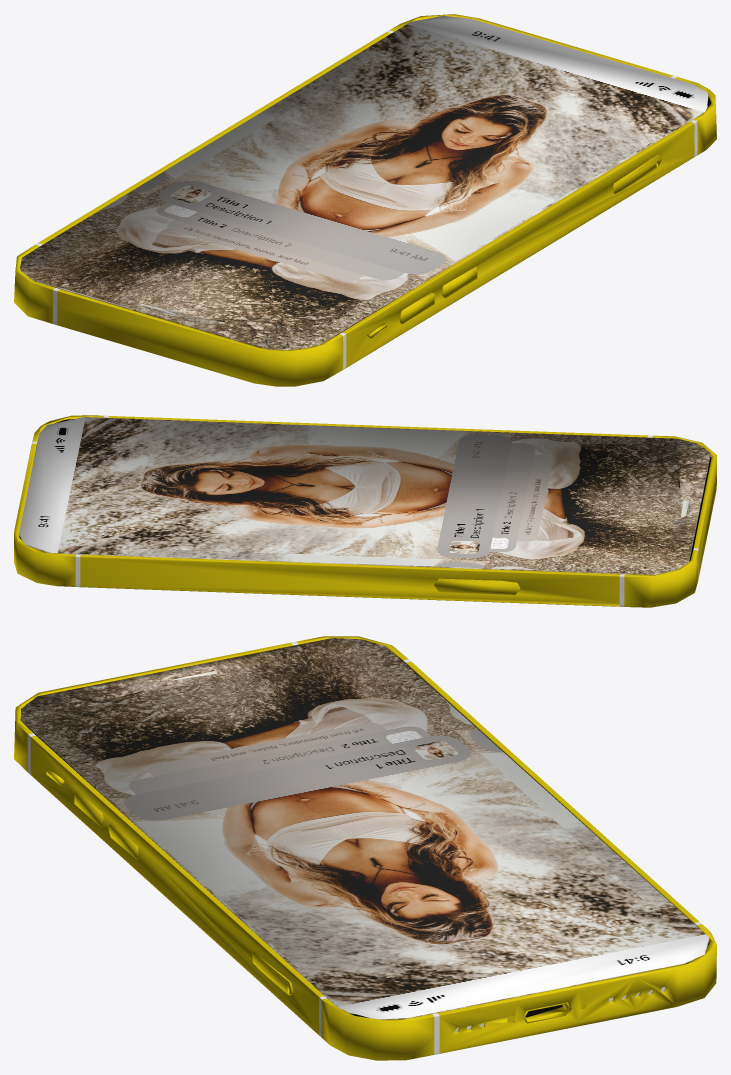
Rendered from IPHONE.fbx.
The picture shows the model from 3 angles, top to bottom: view 1: azimuth 30°, elevation 25°; view 2: azimuth 150°, elevation 25°; view 3: azimuth 270°, elevation 25°; orthographic projection. The views are drawn at different scales.
Parts seen in each view (by area): view 1: Iphone; view 2: Iphone; view 3: Iphone.
Boxes of the visible parts, <box> form: Iphone: <box>14,14,716,386</box>; Iphone: <box>14,415,716,607</box>; Iphone: <box>14,636,716,1060</box>.
Size of the model in its own units: 16.33 by 0.9535 by 12.55.
Materials: 12 (1 with a texture image).
